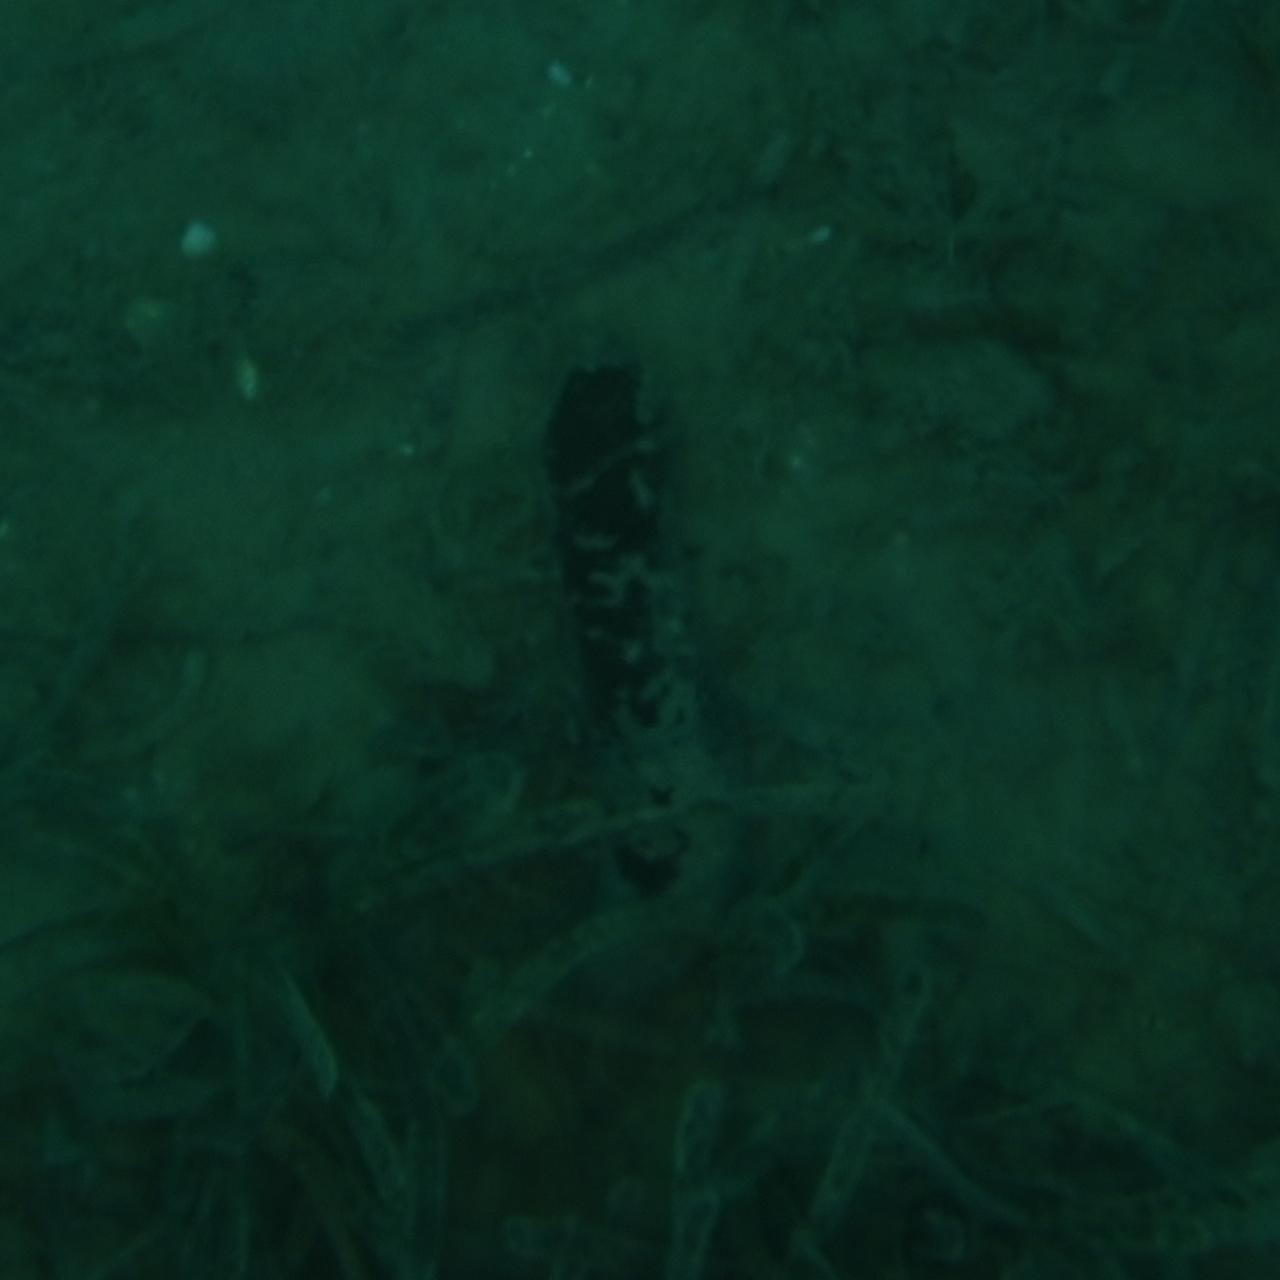Holothuria tubulosa: (572, 343, 708, 937)
